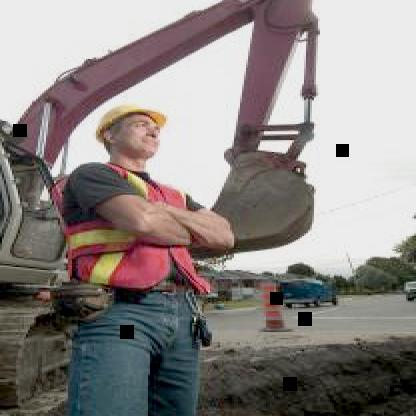helmet: (80, 84, 182, 180)
